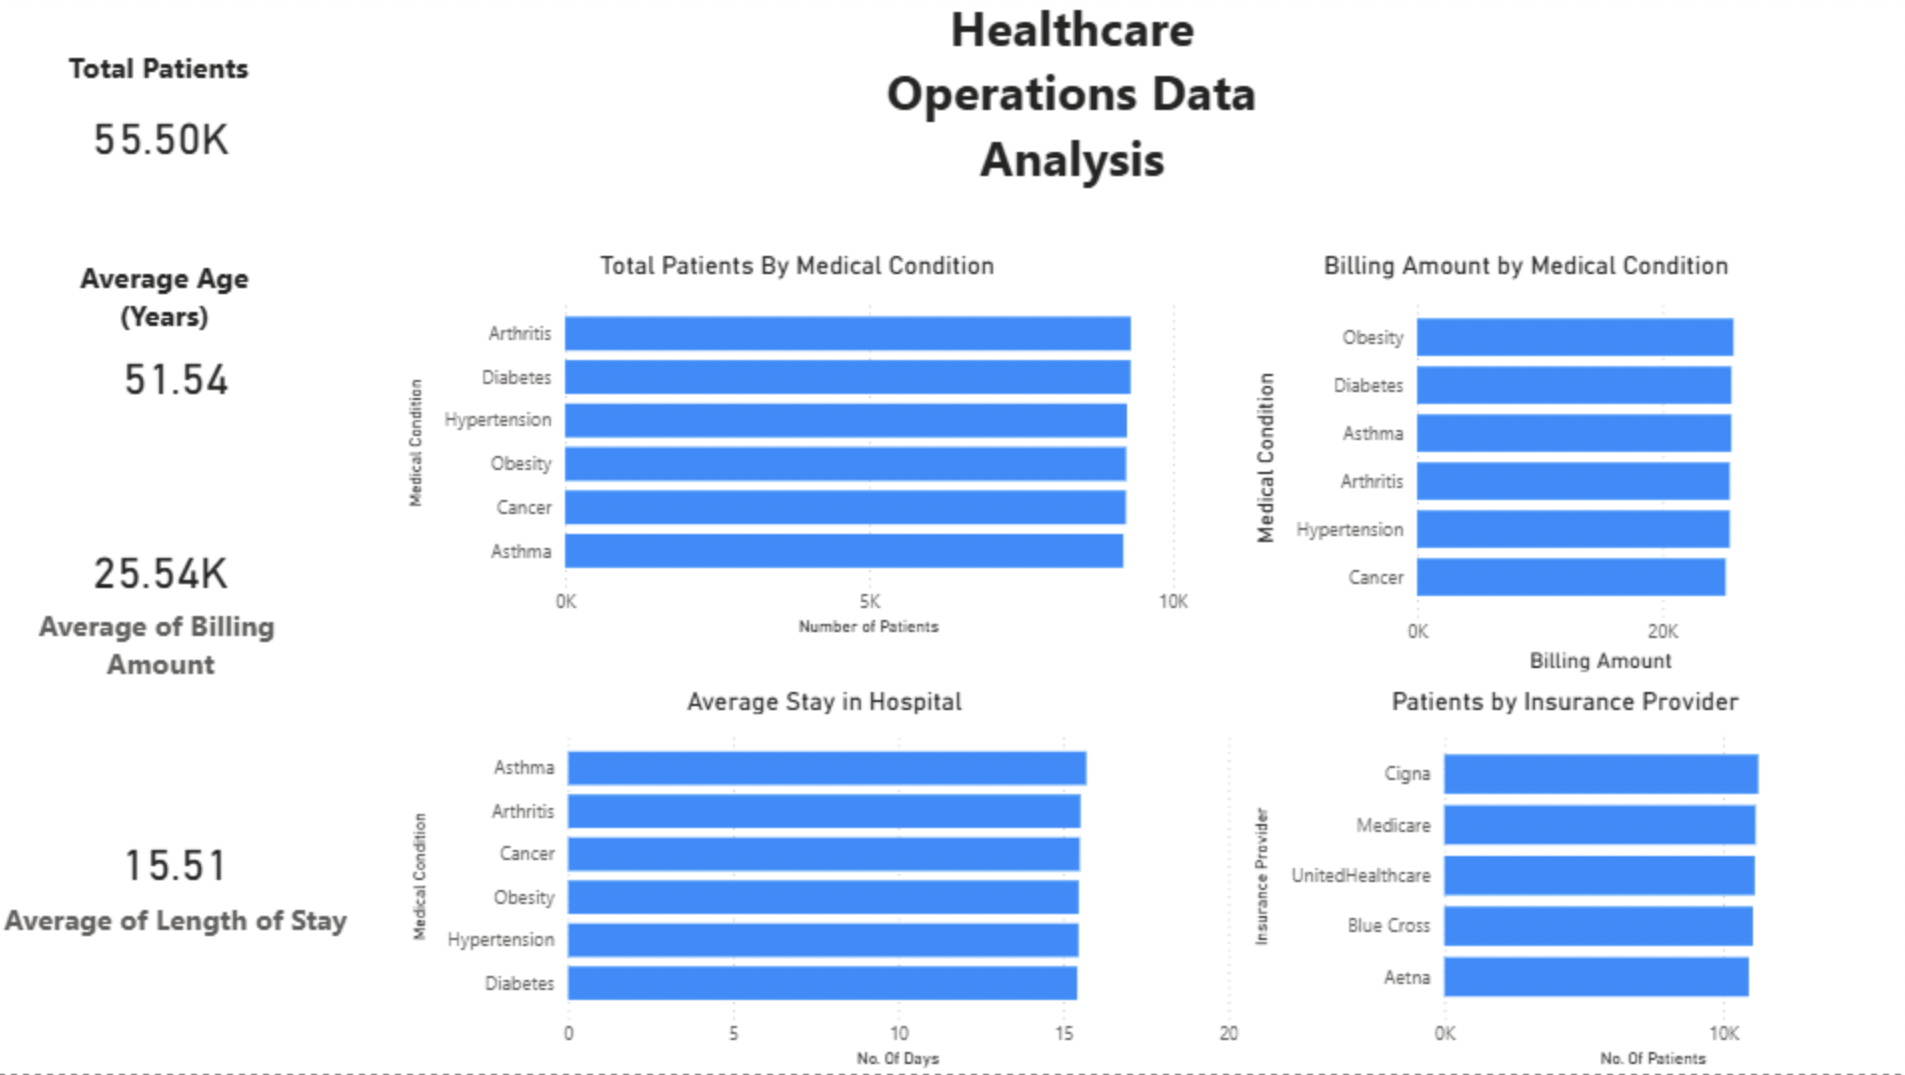

Layout of this report page (visuals, bound fields, positions):
{"tool":"powerbi","page":{"name":"Page 1","canvas":[1280,720],"ordinal":0},"visuals":[{"type":"card","fields":{"Values":["CountNonNull(healthcare_cleaned(1).Name)"]},"box":[0,0,218.4,198.6],"z":0},{"type":"textbox","box":[35.7,35.7,144.9,43.7],"z":1},{"type":"card","fields":{"Values":["Avg(healthcare_cleaned(1).Age)"]},"box":[0,174.7,238.3,164.8],"z":2},{"type":"textbox","box":[35.7,174.7,152.9,61.6],"z":3},{"type":"card","fields":{"Values":["Avg(healthcare_cleaned(1).Billing Amount)"]},"box":[0,307.8,218.4,180.7],"z":4},{"type":"textbox","box":[550,0,325.6,144.9],"z":5},{"type":"card","fields":{"Values":["Avg(healthcare_cleaned(1).Length of Stay)"]},"box":[0,488.4,238.3,206.5],"z":6},{"type":"clusteredBarChart","title":"Total Patients By Medical Condition","fields":{"Category":["healthcare_cleaned(1).Medical Condition"],"Y":["CountNonNull(healthcare_cleaned(1).Name)"]},"box":[268,174.7,526.2,260.1],"z":7},{"type":"barChart","title":"Average Stay in Hospital","fields":{"Category":["healthcare_cleaned(1).Medical Condition"],"Y":["Avg(healthcare_cleaned(1).Length of Stay)"]},"box":[270,462.6,557.9,258.1],"z":8},{"type":"barChart","title":"Billing Amount by Medical Condition","fields":{"Category":["healthcare_cleaned(1).Medical Condition"],"Y":["Avg(healthcare_cleaned(1).Billing Amount)"]},"box":[828,174.7,371.3,283.9],"z":9},{"type":"barChart","title":"Patients by Insurance Provider","fields":{"Category":["healthcare_cleaned(1).Insurance Provider"],"Y":["CountNonNull(healthcare_cleaned(1).Name)"]},"box":[828,462.6,422.9,258.1],"z":10}]}

Visuals, with their boxes in screenshot pixels (x1, y1, x2, y2), scaled from the page's 1280x720 canvas onto the 1905x1075 screenshot:
card - CountNonNull(healthcare_cleaned(1).Name): (0,0,325,297)
textbox: (53,53,269,119)
card - Avg(healthcare_cleaned(1).Age): (0,261,355,507)
textbox: (53,261,281,353)
card - Avg(healthcare_cleaned(1).Billing Amount): (0,460,325,729)
textbox: (819,0,1303,216)
card - Avg(healthcare_cleaned(1).Length of Stay): (0,729,355,1038)
"Total Patients By Medical Condition" clusteredBarChart: (399,261,1182,649)
"Average Stay in Hospital" barChart: (402,691,1232,1074)
"Billing Amount by Medical Condition" barChart: (1232,261,1785,685)
"Patients by Insurance Provider" barChart: (1232,691,1862,1074)
